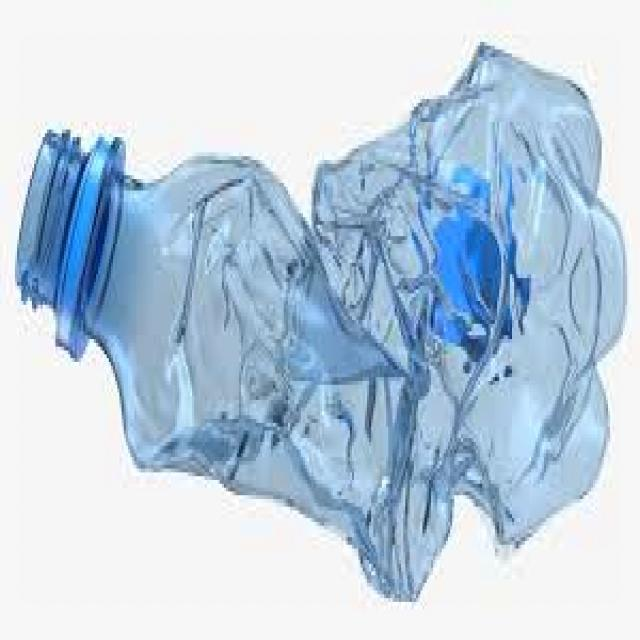BIODEGRADABLE: (19, 35, 621, 604)
